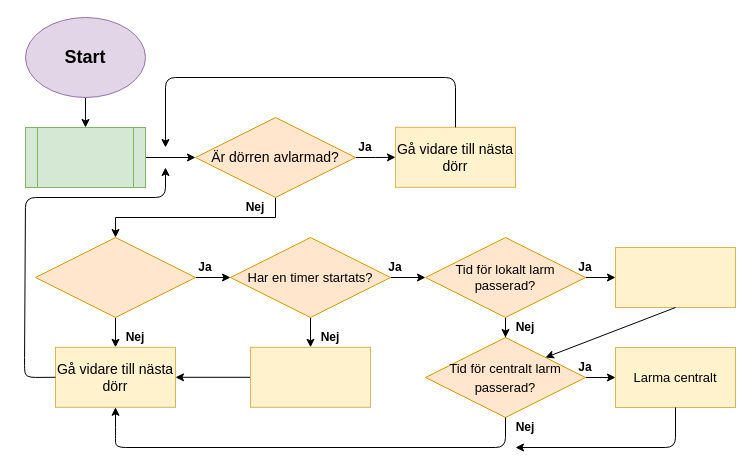
The diagram is 753 pixels wide and 473 high, and some of its shapes have lost their labels. Each missing label, with the centre of its shape:
Larma lokalt: point 675,277
Starta en timer: point 310,376
Systemet initieras: point 85,157
Är dörren öppen?: point 115,277
